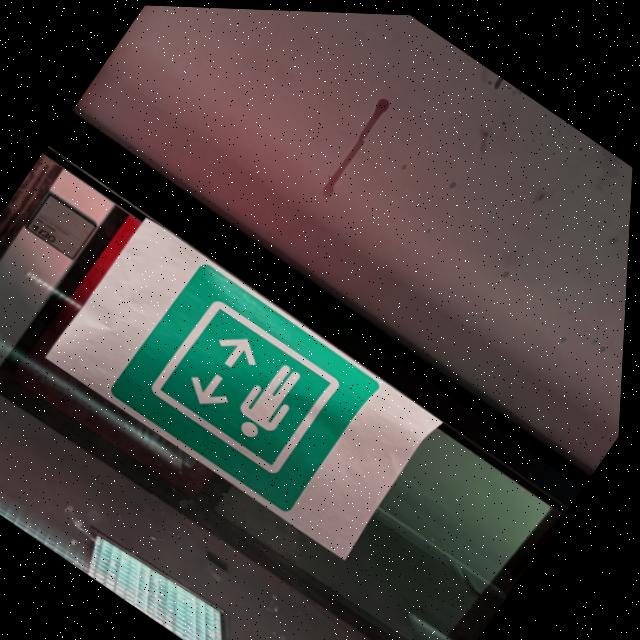elevator: (110, 260, 380, 511)
